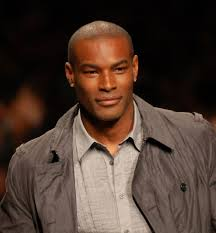black_male: (60, 25, 149, 121)
